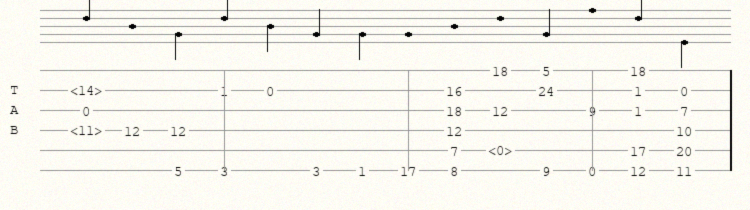0: (82, 104, 94, 117), (266, 84, 278, 97), (588, 164, 600, 177), (680, 84, 692, 97)
1: (220, 84, 232, 97), (358, 164, 370, 177), (634, 84, 646, 97), (634, 104, 646, 117)
10: (676, 124, 696, 137)
11: (676, 164, 696, 177)
12: (124, 124, 144, 137), (170, 124, 190, 137), (446, 124, 466, 137), (492, 104, 512, 117), (630, 164, 650, 177)
16: (446, 84, 466, 97)
17: (400, 164, 420, 177), (630, 144, 650, 157)
18: (446, 104, 466, 117), (492, 64, 512, 77), (630, 64, 650, 77)
20: (676, 144, 696, 157)
24: (538, 84, 558, 97)
3: (220, 164, 232, 177), (312, 164, 324, 177)
5: (174, 164, 186, 177), (542, 64, 554, 77)
7: (450, 144, 462, 157), (680, 104, 692, 117)
8: (450, 164, 462, 177)
9: (542, 164, 554, 177), (588, 104, 600, 117)
harmonic: (70, 123, 106, 137), (70, 83, 106, 97), (488, 143, 516, 157)
